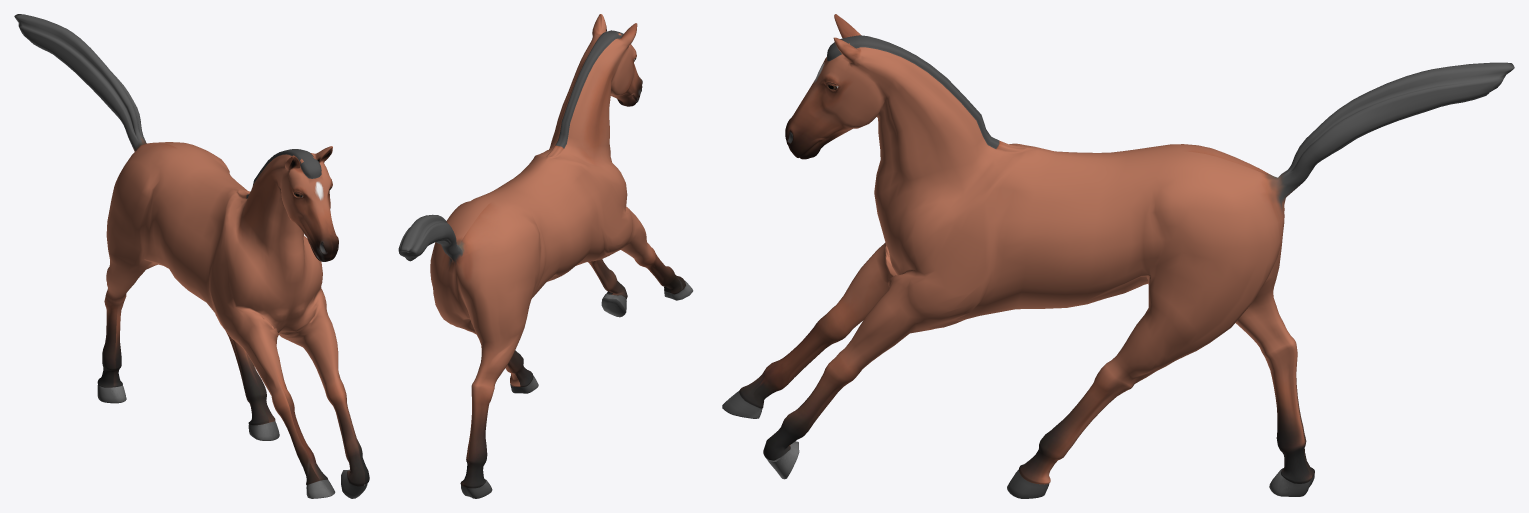
The model's file is horse_obj_21.obj.
The picture shows the model from 3 angles, left to right: view 1: azimuth 30°, elevation 25°; view 2: azimuth 150°, elevation 25°; view 3: azimuth 270°, elevation 25°; orthographic projection. The views are drawn at different scales.
Visible parts, largest first — view 1: Figure_1; view 2: Figure_1; view 3: Figure_1.
Part boxes in pixels (x1,y1,x2,y2): Figure_1: [14, 14, 369, 498]; Figure_1: [398, 14, 693, 498]; Figure_1: [722, 14, 1514, 498].
Size of the model in its own units: 0.2421 by 0.8621 by 1.29.
7 materials, 7 textured.
